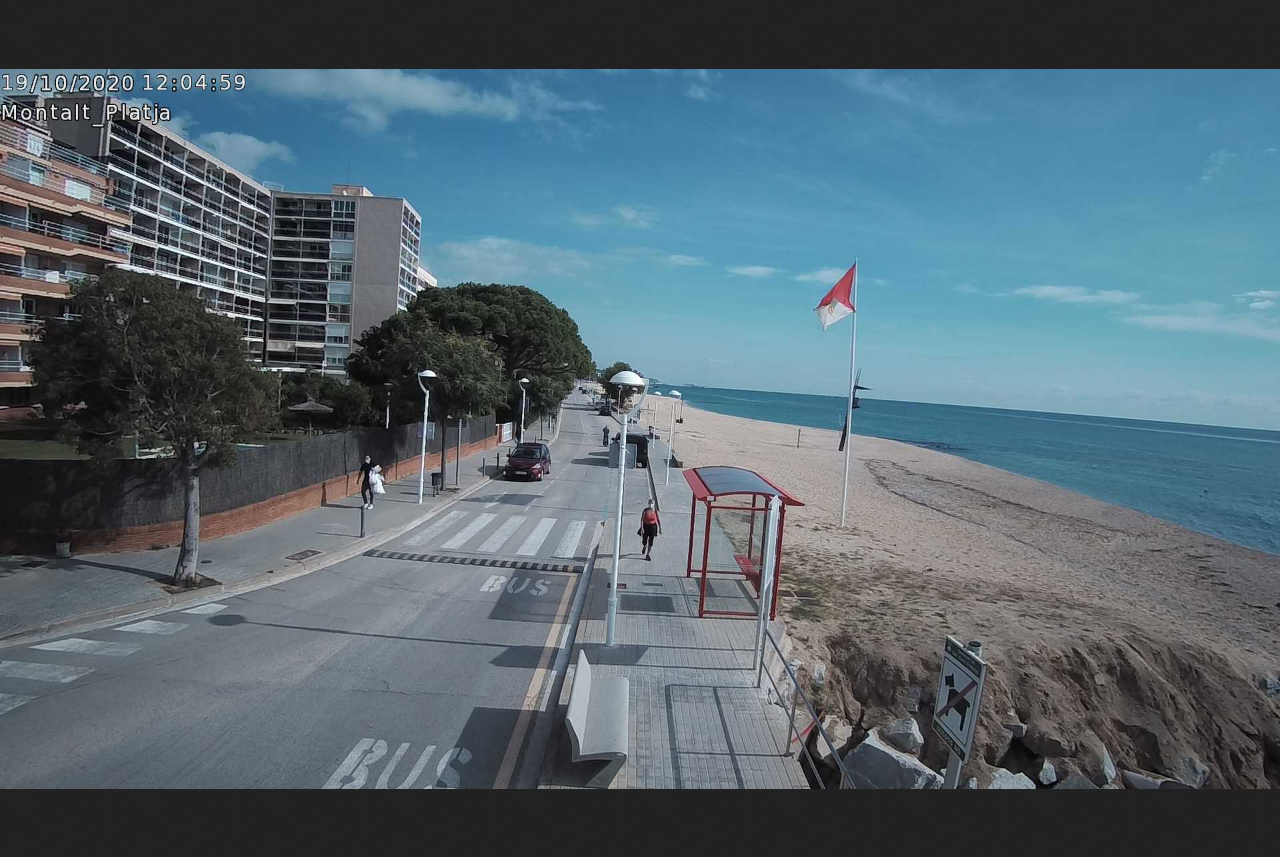maybe: (815, 255, 859, 332)
